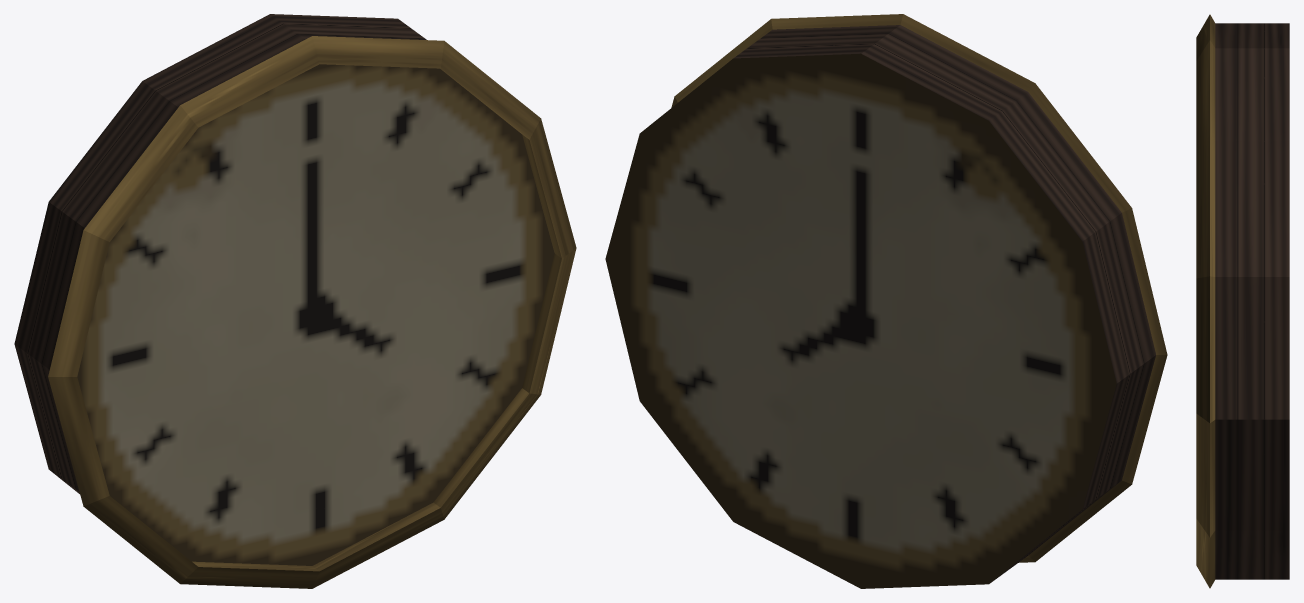
File: PSXH_Clock_Wall.obj
3 renders of one model, left to right at view 1: azimuth 30°, elevation 25°; view 2: azimuth 150°, elevation 25°; view 3: azimuth 270°, elevation 25°, orthographic. The views are drawn at different scales.
Parts seen in each view (by area): view 1: PSXH_Clock_Wall; view 2: PSXH_Clock_Wall; view 3: PSXH_Clock_Wall.
Part boxes in pixels (box(x1,y1,x2,y2)): PSXH_Clock_Wall: box(14, 14, 576, 588); PSXH_Clock_Wall: box(605, 14, 1167, 588); PSXH_Clock_Wall: box(1196, 14, 1289, 588).
Bounding box in the file's own units: 0.434 × 0.434 × 0.0704.
1 material, 1 textured.
